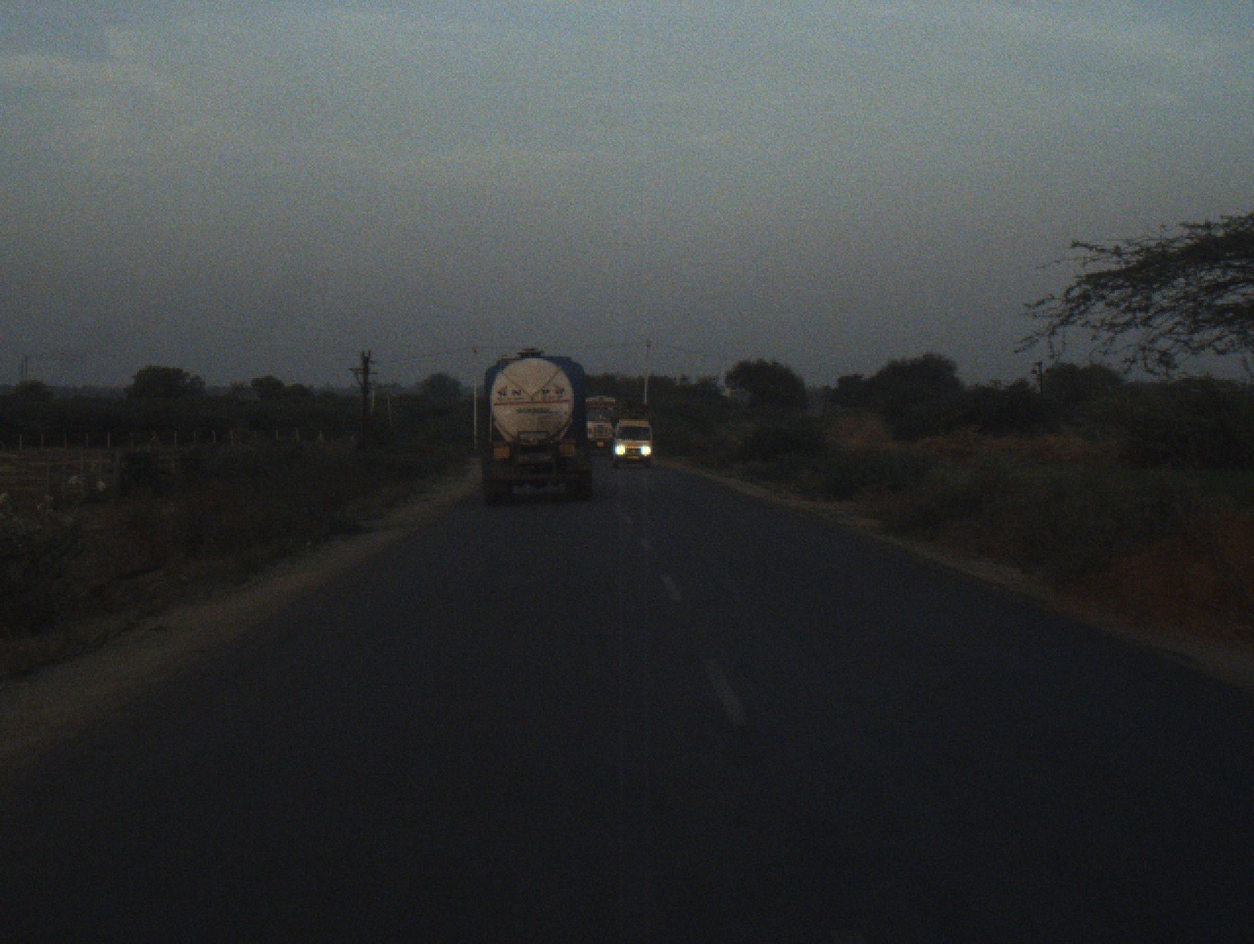car: (613, 411, 658, 472)
truck: (477, 345, 598, 502), (576, 386, 621, 456)
